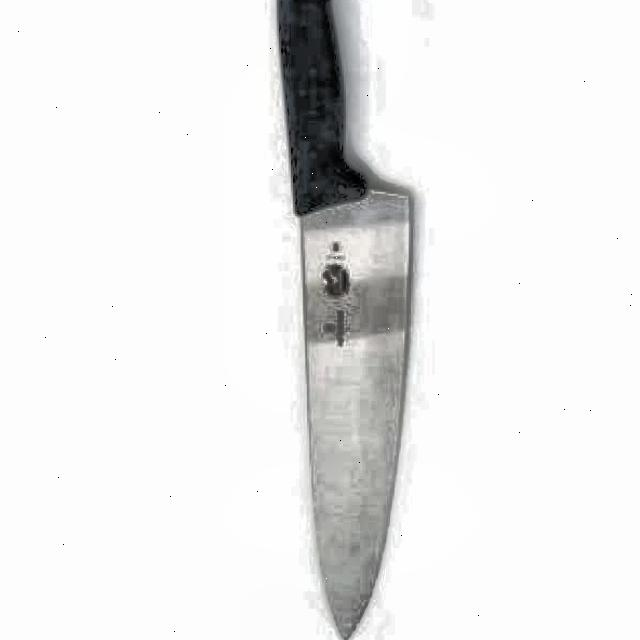knife: (272, 0, 418, 640)
